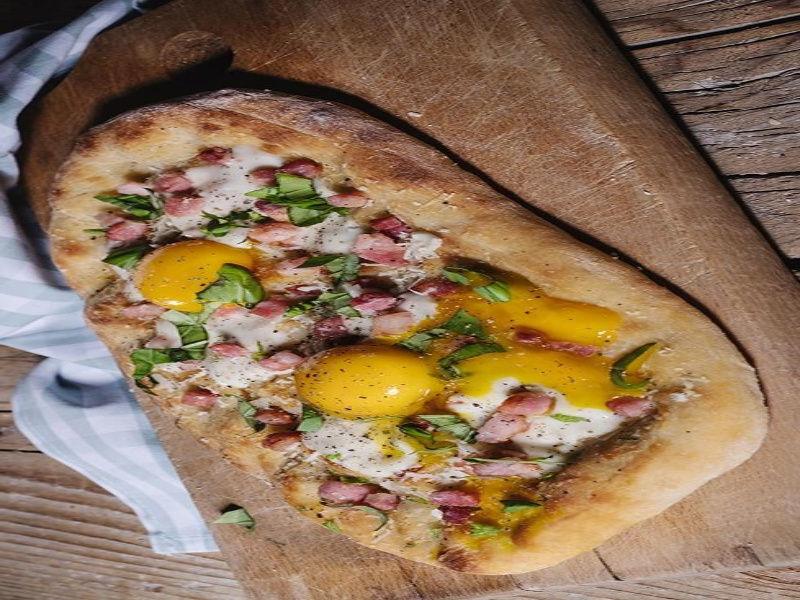oeuf: (286, 341, 446, 419), (133, 235, 259, 314)
